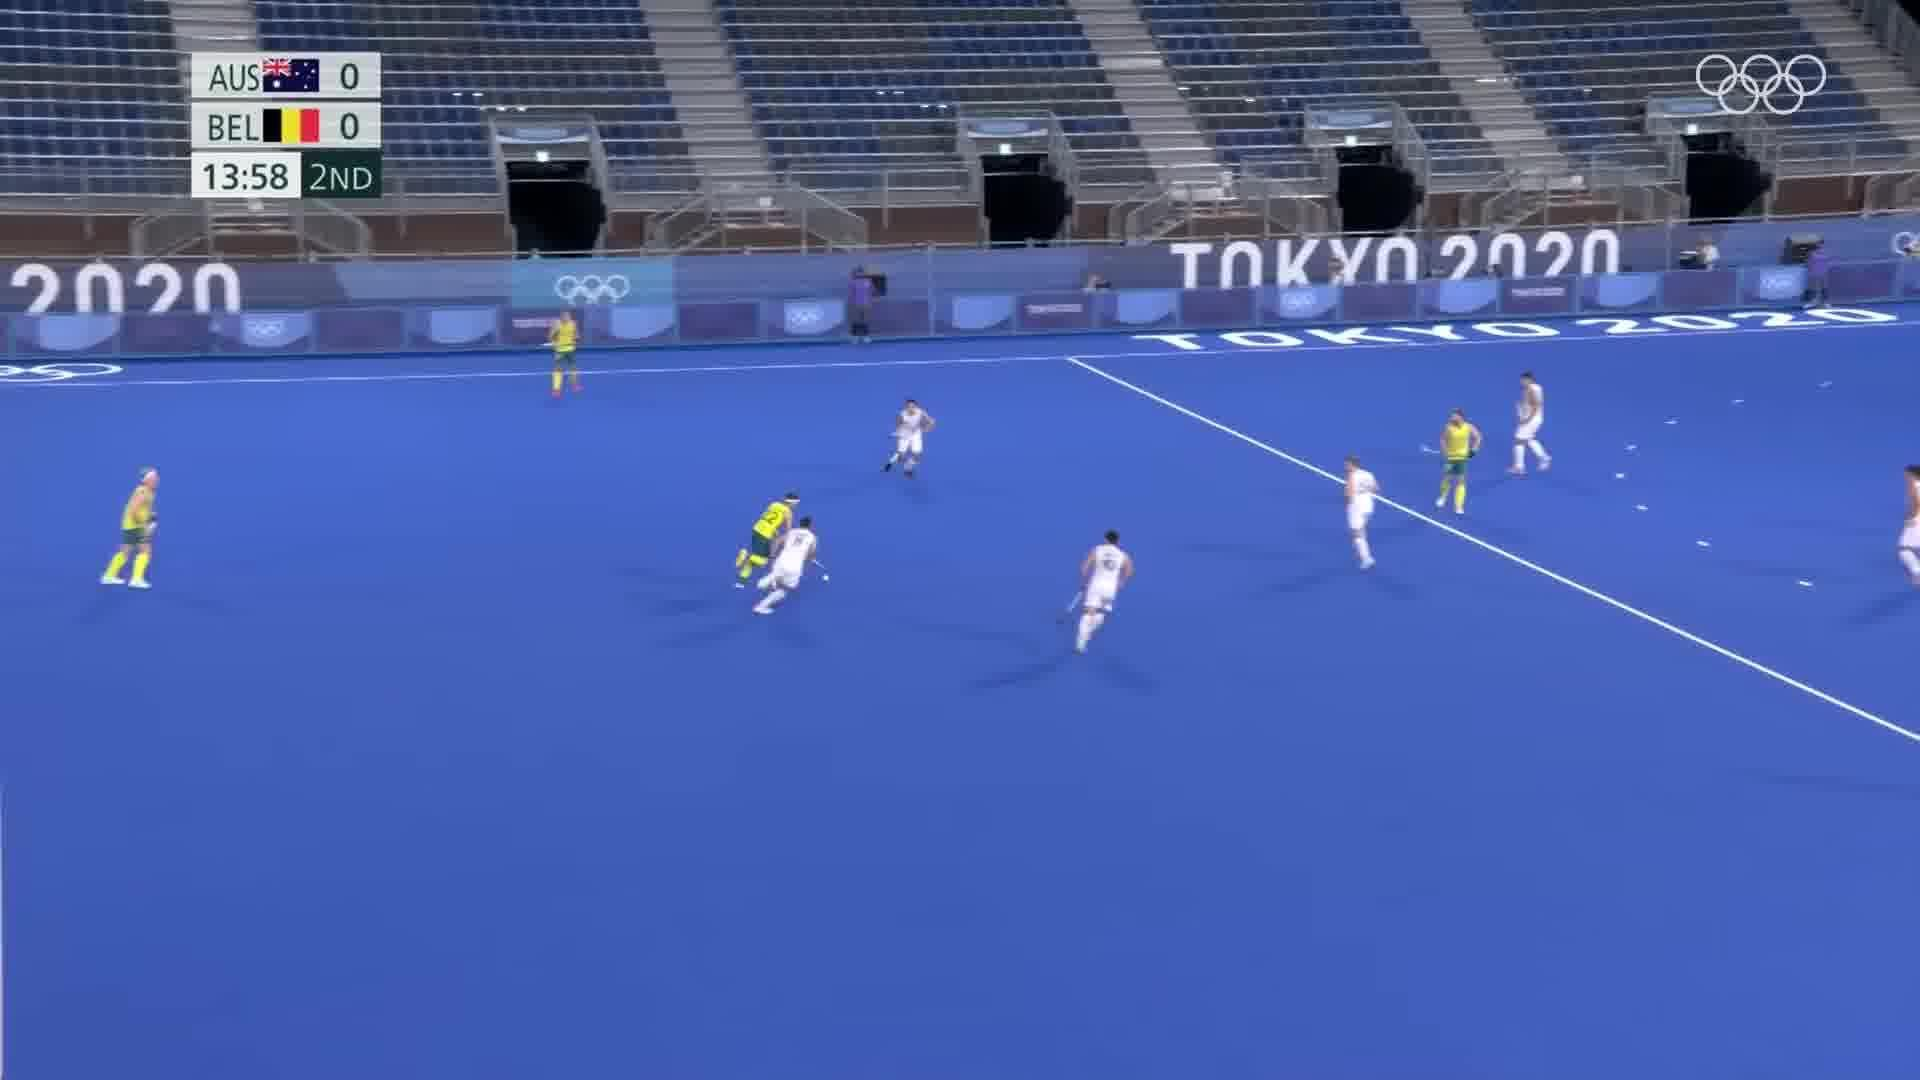ball: (816, 571, 837, 589)
